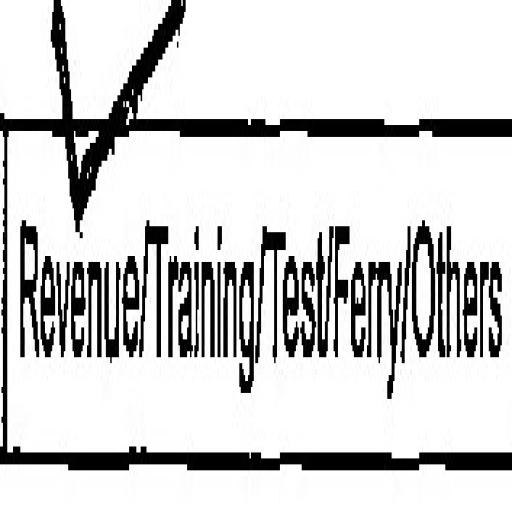check: (2, 0, 148, 512)
